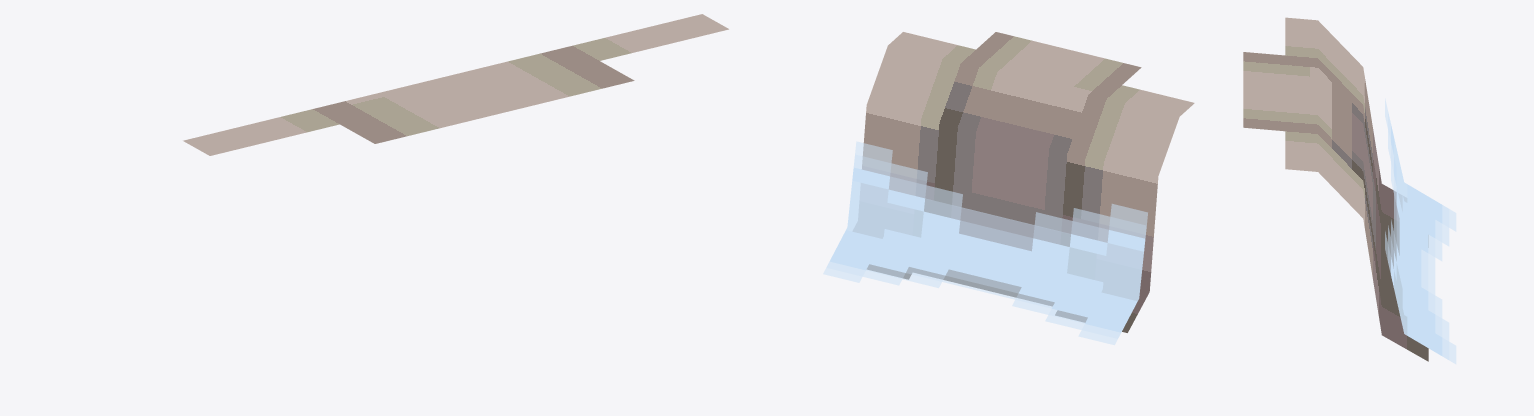
3 renders of one model, left to right at view 1: azimuth 30°, elevation 25°; view 2: azimuth 150°, elevation 25°; view 3: azimuth 270°, elevation 25°, orthographic. The views are drawn at different scales.
Size of the model in its own units: 1 by 0.7266 by 0.7695.
Materials: 2 (2 with a texture image).
